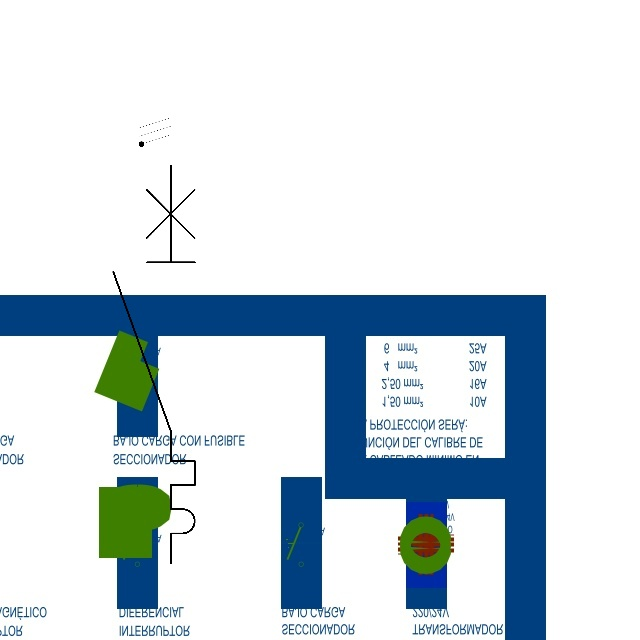interruptor_termomagnetico: (103, 155, 205, 573)
